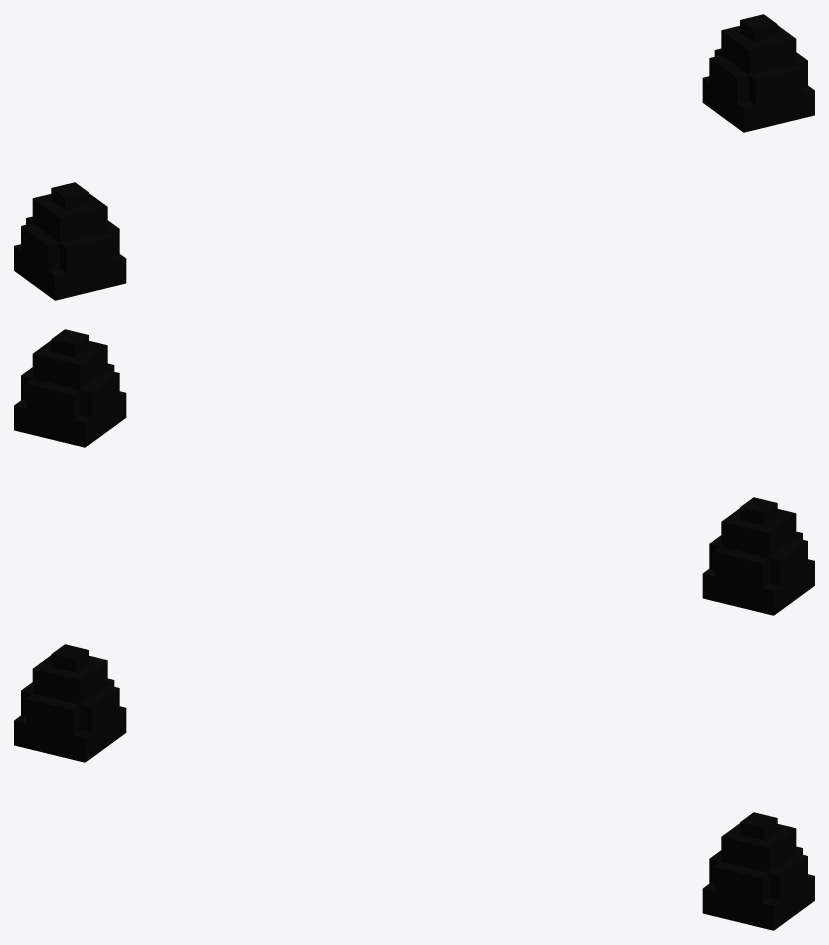
Rendered from church-80-churchbells.glb.
The picture shows the model from 3 angles, top to bottom: view 1: azimuth 30°, elevation 25°; view 2: azimuth 150°, elevation 25°; view 3: azimuth 330°, elevation 25°; orthographic projection.
Visible parts, largest first — view 1: churchbells; view 2: churchbells; view 3: churchbells.
Boxes of the visible parts, left/top/right/bottom form: churchbells: left=14, top=14, right=814, bottom=300; churchbells: left=14, top=329, right=814, bottom=615; churchbells: left=14, top=644, right=814, bottom=930.
Bounding box in the file's own units: 6.4 × 0.7 × 0.6.
1 material, 1 textured.
